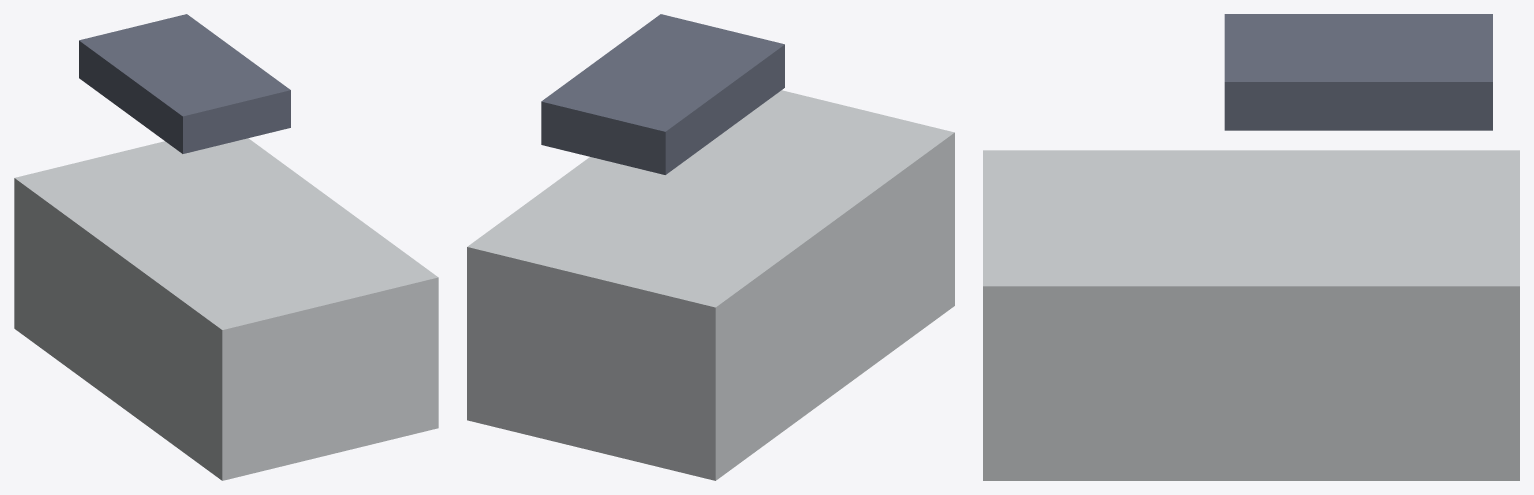
3 renders of one model, left to right at view 1: azimuth 30°, elevation 25°; view 2: azimuth 150°, elevation 25°; view 3: azimuth 270°, elevation 25°, orthographic. The views are drawn at different scales.
Visible parts, largest first — view 1: rj45; view 2: rj45; view 3: rj45.
Part boxes in pixels (x1,y1,x2,y2): rj45: (14,14,438,480); rj45: (467,14,954,480); rj45: (983,14,1519,480).
Size of the model in its own units: 0.006 by 0.0075 by 0.01.
